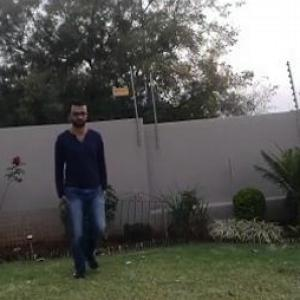follow: (53, 100, 112, 273)
